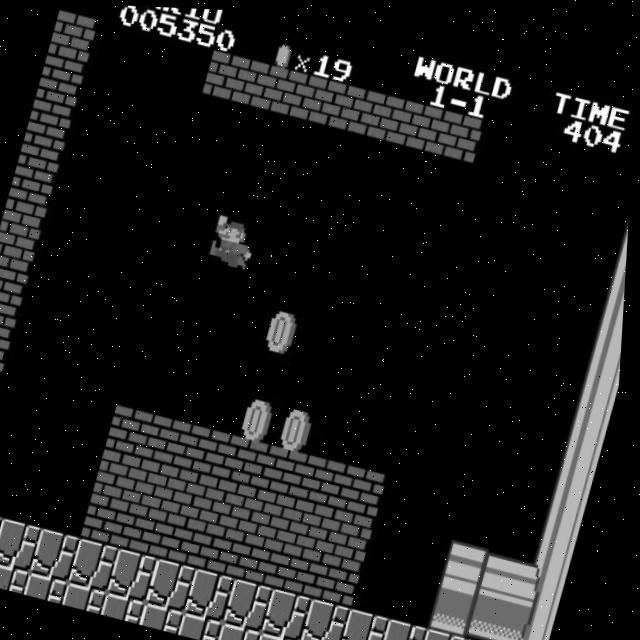1- brick_block: (85, 491, 138, 547), (317, 77, 370, 133), (213, 476, 266, 532), (356, 86, 409, 142), (240, 530, 293, 586), (201, 48, 254, 103), (135, 457, 188, 512), (163, 511, 216, 566), (290, 496, 343, 551), (97, 447, 149, 503), (240, 57, 292, 113), (279, 67, 331, 123), (175, 466, 227, 522), (202, 520, 254, 576), (395, 96, 447, 152), (434, 106, 486, 162), (330, 505, 382, 561), (0, 186, 52, 241), (124, 501, 176, 556), (225, 432, 277, 487), (252, 486, 304, 541), (279, 540, 331, 595), (318, 550, 370, 605), (109, 403, 160, 458), (148, 412, 199, 467), (187, 422, 238, 477), (303, 451, 354, 506), (342, 461, 393, 516), (47, 9, 98, 63), (12, 142, 63, 196), (264, 442, 315, 496), (36, 53, 86, 107), (24, 98, 74, 152), (0, 231, 40, 285), (0, 275, 28, 329), (0, 320, 17, 374), (0, 365, 5, 418)
11- little_mario: (207, 209, 262, 267)
14- pipe: (484, 544, 537, 600), (557, 420, 610, 475), (546, 464, 598, 520), (569, 376, 621, 431), (523, 554, 575, 608), (535, 509, 586, 564), (473, 588, 525, 640), (580, 331, 626, 386), (511, 597, 564, 640), (592, 286, 628, 341), (604, 243, 630, 296), (615, 198, 632, 251)
15- pipe_head: (445, 534, 498, 590), (434, 578, 486, 634)
17- undestructible_block: (35, 526, 88, 582), (112, 545, 165, 601), (190, 565, 243, 621), (267, 584, 320, 640), (74, 536, 126, 592), (151, 555, 203, 611), (229, 574, 281, 630), (0, 517, 48, 573), (306, 594, 358, 640), (345, 603, 398, 640), (68, 580, 115, 613), (145, 600, 192, 633), (30, 571, 76, 604), (107, 590, 153, 623), (185, 609, 231, 640), (384, 613, 436, 640), (0, 561, 37, 594), (223, 619, 270, 640), (423, 623, 475, 640), (262, 628, 308, 640), (0, 507, 9, 562), (462, 632, 513, 640), (301, 639, 347, 640)
2- coin: (236, 387, 289, 443), (275, 397, 327, 453), (260, 299, 312, 354)
